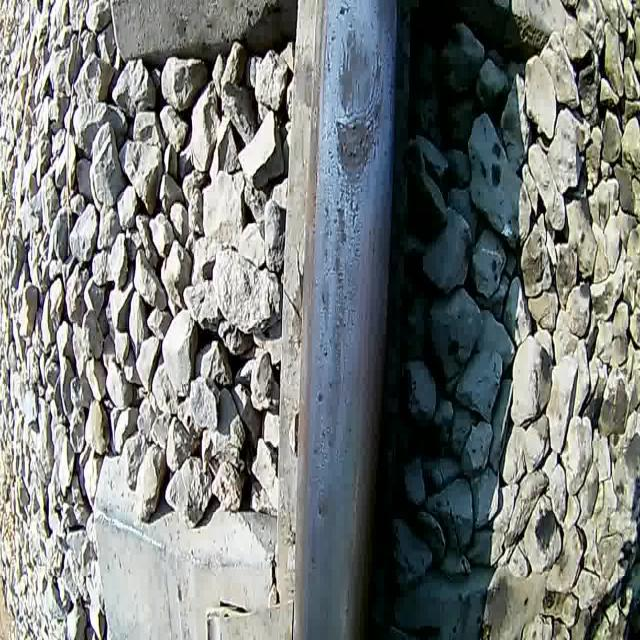Squats: (330, 20, 386, 188), (331, 204, 350, 286)
